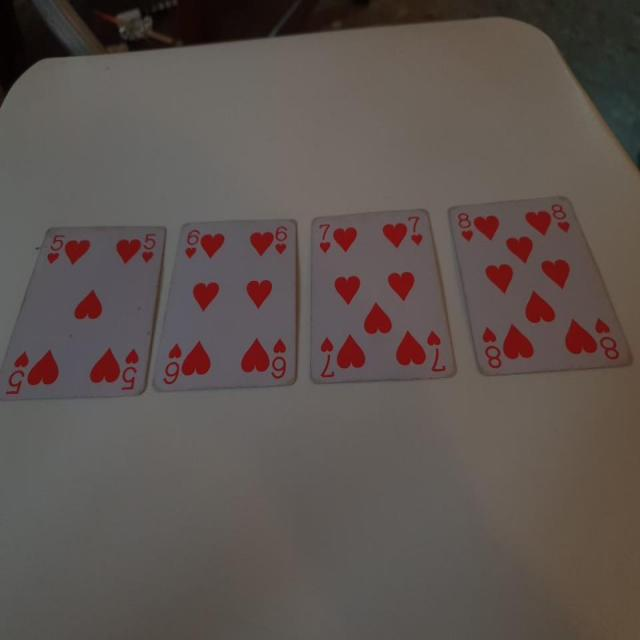5 Hearts: (1, 218, 172, 410)
6 Hearts: (154, 213, 302, 407)
7 Hearts: (303, 206, 458, 387)
8 Hearts: (448, 183, 636, 385)
